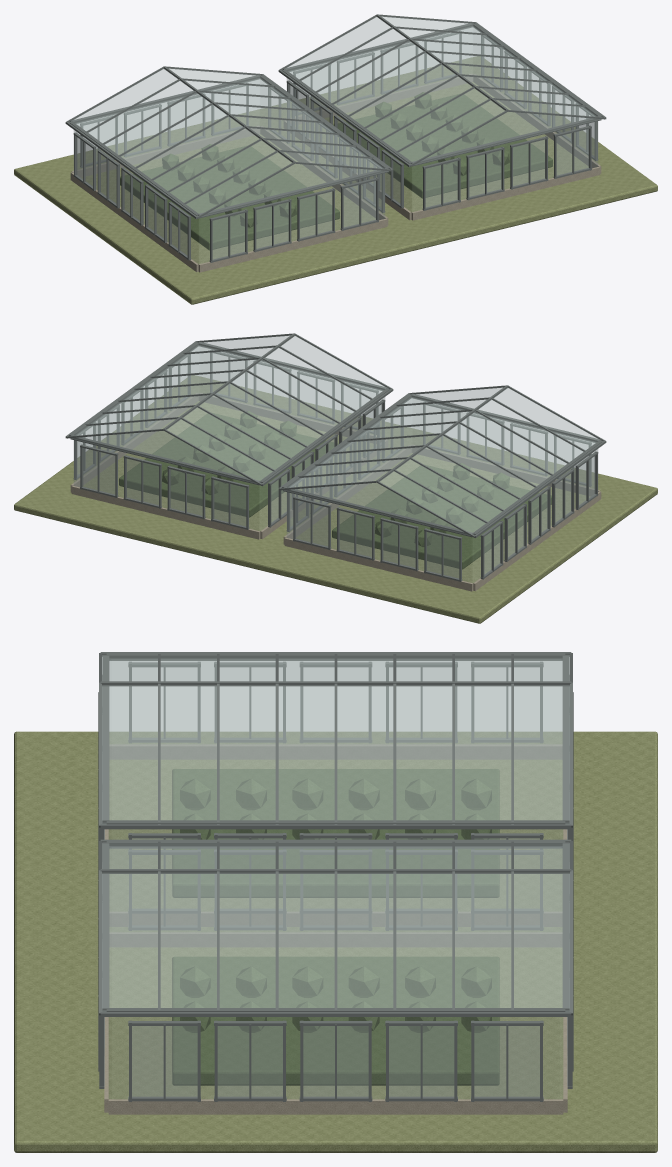
File: AGR_GREENHOUSE_3x2_001.glb
The picture shows the model from 3 angles, top to bottom: view 1: azimuth 30°, elevation 25°; view 2: azimuth 150°, elevation 25°; view 3: azimuth 270°, elevation 25°; orthographic projection. The views are drawn at different scales.
Parts seen in each view (by area): view 1: AGR_GREENHOUSE_3x2_001_Visual; view 2: AGR_GREENHOUSE_3x2_001_Visual; view 3: AGR_GREENHOUSE_3x2_001_Visual.
Boxes of the visible parts, <box> form: AGR_GREENHOUSE_3x2_001_Visual: <box>14,14,657,304</box>; AGR_GREENHOUSE_3x2_001_Visual: <box>14,333,657,623</box>; AGR_GREENHOUSE_3x2_001_Visual: <box>14,652,657,1152</box>.
Size of what is drawn, in the model's own units: 5.9 by 1.15 by 3.9.
5 materials, 3 textured.
